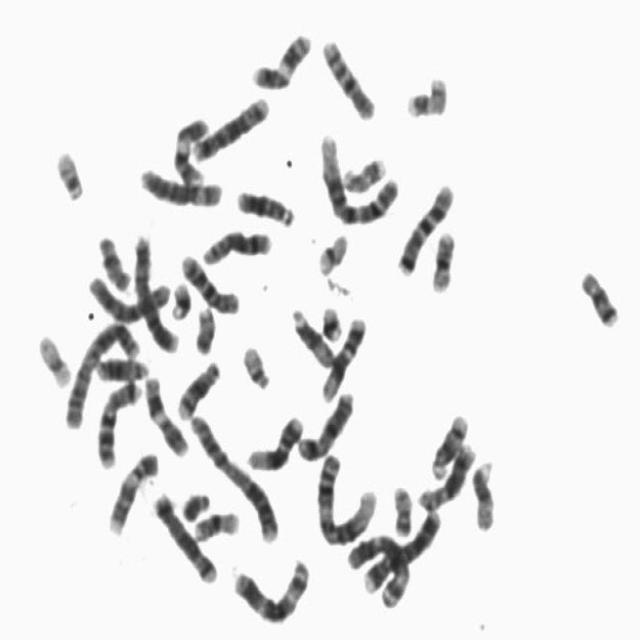A1: (314, 124, 402, 228), (311, 444, 380, 548)
A2: (183, 404, 280, 544), (58, 312, 144, 432)
A3: (226, 550, 312, 626), (341, 524, 412, 610)
B4: (358, 502, 444, 595), (128, 225, 181, 354)
B5: (146, 483, 220, 586), (188, 88, 272, 162)
C10: (316, 28, 378, 121), (175, 244, 242, 316)
C11: (138, 367, 190, 458), (245, 24, 314, 92)
C12: (316, 308, 368, 403), (240, 406, 305, 472)
C6: (81, 266, 175, 324), (134, 158, 225, 208)
C7: (391, 174, 456, 277), (91, 369, 144, 468)
C8: (411, 434, 479, 514), (197, 219, 274, 266)
C9: (102, 442, 160, 536), (167, 108, 211, 187)
D13: (231, 180, 296, 228), (90, 348, 150, 382)
D14: (424, 403, 472, 482), (171, 352, 223, 419)
D15: (285, 298, 338, 369), (466, 452, 498, 532)
E16: (424, 222, 458, 294), (188, 501, 241, 543)
E17: (400, 67, 450, 120), (338, 148, 389, 195)
E18: (574, 260, 622, 330), (92, 225, 133, 292)
F19: (32, 324, 74, 389), (310, 224, 350, 277)
F20: (387, 475, 415, 538), (188, 298, 218, 356)
G21: (315, 296, 345, 344), (165, 273, 194, 322)
G22: (49, 140, 87, 202), (235, 336, 272, 392)
X: (291, 382, 357, 462)
Y: (175, 482, 212, 522)
